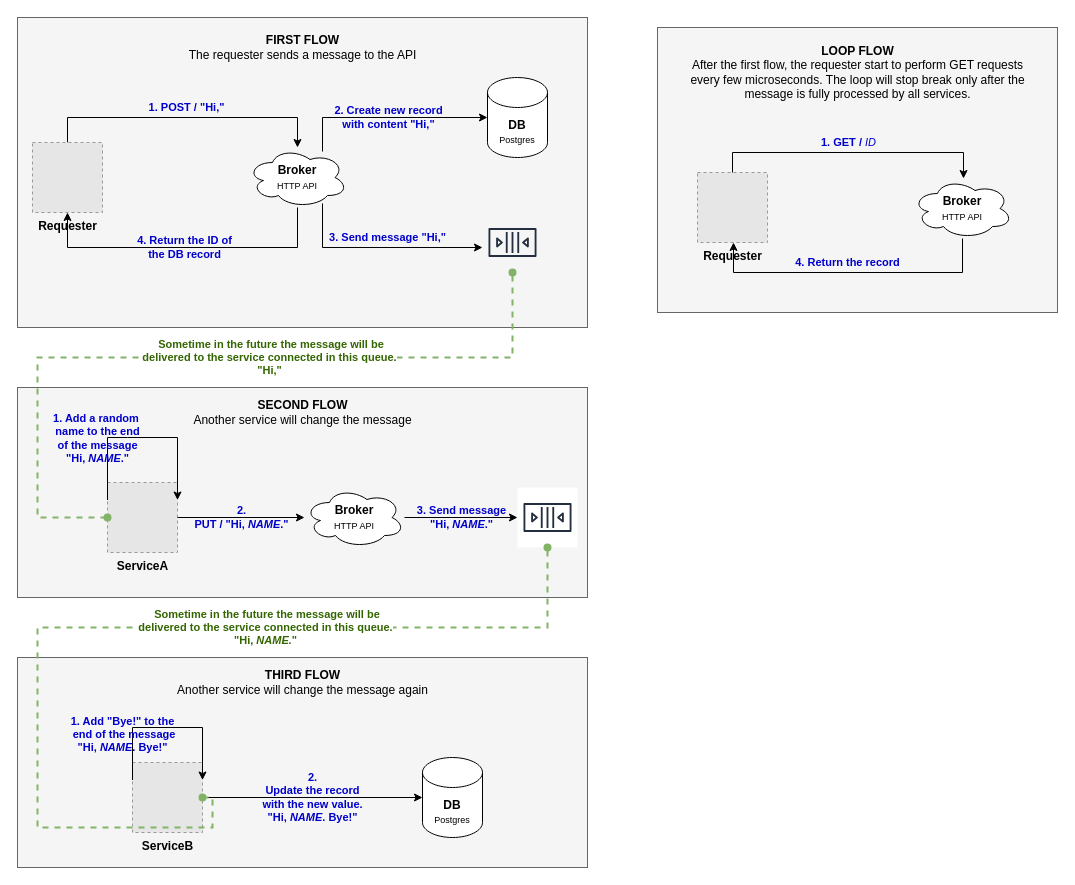
This 1075x885 diagram has some shape labels left out. Grey dashed boxes stand in for pictures. The centre of each missing label's shape, as x and y in pixels:
"topic-a Queue" belongs at pixel 512 242.
"topic-b Queue" belongs at pixel 547 517.
